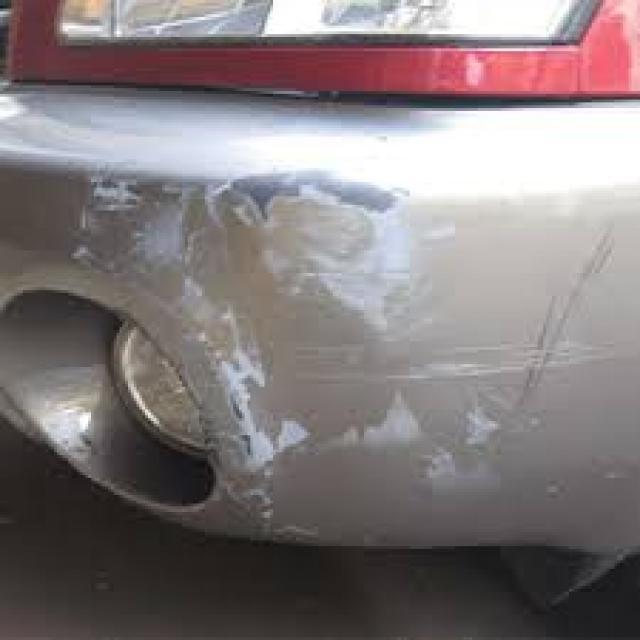dent-or-scratch: (154, 312, 582, 494), (70, 169, 418, 307)
